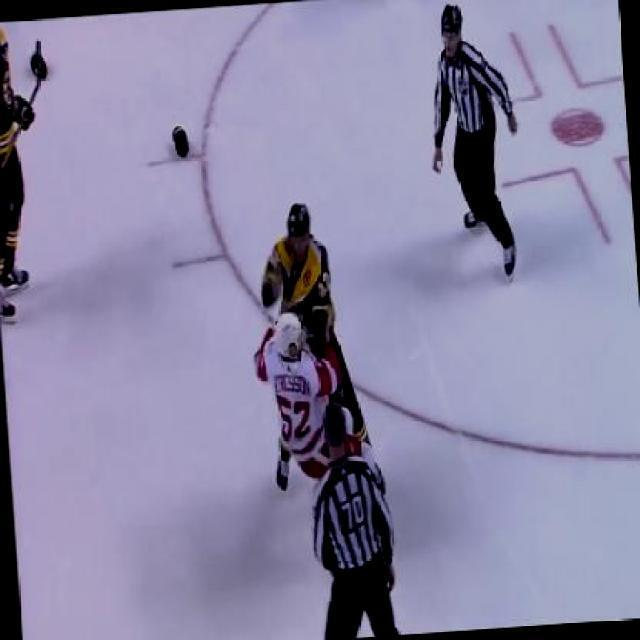fight: (243, 198, 386, 508)
